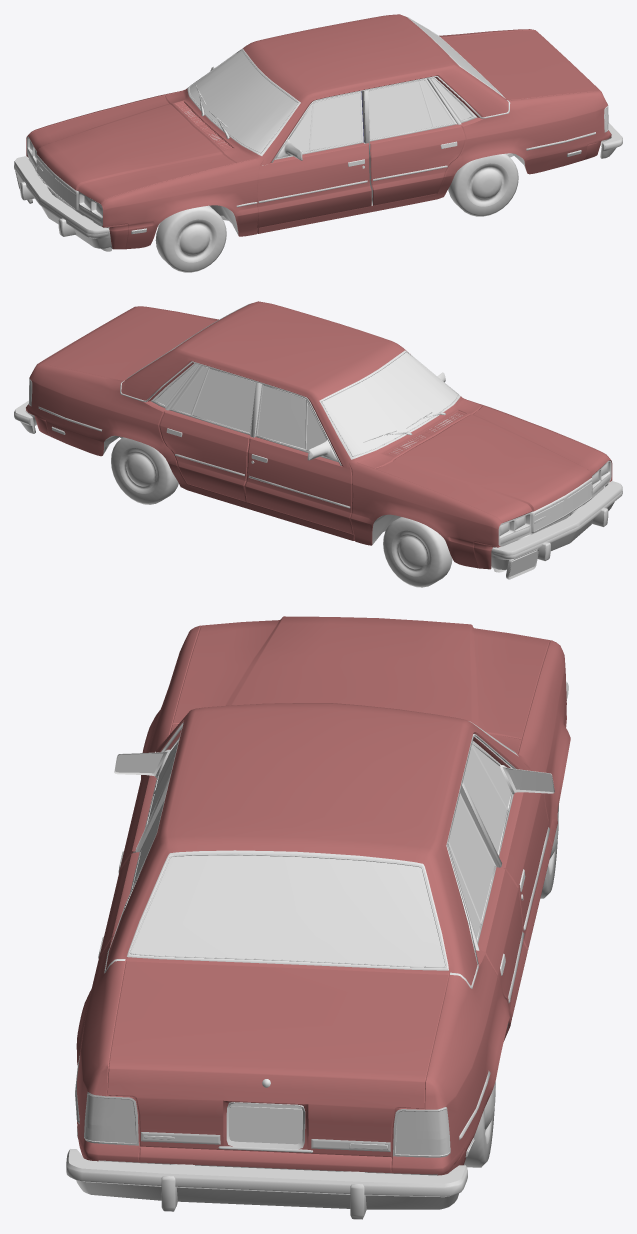
The model's file is Fairheaven_LT80Unity.fbx.
3 views of the same model, one above another, from view 1: azimuth 30°, elevation 25°; view 2: azimuth 150°, elevation 25°; view 3: azimuth 270°, elevation 25° (orthographic). The views are drawn at different scales.
Visible parts, largest first — view 1: body, Hood, Door_FL, trunk_door, Wiendshield, Door_RL, Wheel_FL, Door_Glass_RL, Wheel_RL, Door_Glass_FL, bumper_front, Bodytrim (+6 smaller); view 2: body, Hood, Wiendshield, Door_FR, trunk_door, Door_RR, Wheel_FR, bumper_front, Door_Glass_RR, Wheel_RR, Door_Glass_FR, Bodytrim (+6 smaller); view 3: body, trunk_door, Hood, Windows_rear, bumper_rear, Bodytrim, Door_FR, Door_RR, Door_Glass_RR, Trunk_door_inner, Door_Glass_FR, Numberplate_rear (+11 smaller).
Part boxes in pixels (bbox=[...]): body: bbox=[26, 14, 611, 249]; Hood: bbox=[28, 95, 236, 203]; Door_FL: bbox=[257, 143, 371, 227]; trunk_door: bbox=[442, 30, 600, 100]; Wiendshield: bbox=[189, 50, 298, 152]; Door_RL: bbox=[369, 124, 465, 205]; Wheel_FL: bbox=[155, 205, 226, 272]; Door_Glass_RL: bbox=[369, 80, 453, 139]; Wheel_RL: bbox=[448, 153, 518, 216]; Door_Glass_FL: bbox=[289, 93, 361, 151]; bumper_front: bbox=[14, 156, 111, 248]; Bodytrim: bbox=[187, 17, 595, 162]; body: bbox=[26, 301, 612, 569]; Hood: bbox=[375, 406, 608, 523]; Wiendshield: bbox=[322, 352, 457, 456]; Door_FR: bbox=[244, 436, 353, 534]; trunk_door: bbox=[38, 307, 215, 380]; Door_RR: bbox=[159, 410, 250, 501]; Wheel_FR: bbox=[383, 517, 452, 587]; bumper_front: bbox=[491, 481, 622, 579]; Door_Glass_RR: bbox=[173, 367, 255, 432]; Wheel_RR: bbox=[111, 437, 178, 504]; Door_Glass_FR: bbox=[257, 385, 326, 449]; Bodytrim: bbox=[38, 303, 460, 465]; body: bbox=[76, 625, 570, 1175]; trunk_door: bbox=[107, 961, 448, 1157]; Hood: bbox=[172, 616, 550, 739]; Windows_rear: bbox=[131, 855, 445, 966]; bumper_rear: bbox=[66, 1149, 467, 1219]; Bodytrim: bbox=[75, 721, 518, 1157]; Door_FR: bbox=[499, 768, 552, 950]; Door_RR: bbox=[478, 867, 527, 1017]; Door_Glass_RR: bbox=[448, 795, 494, 939]; Trunk_door_inner: bbox=[141, 1079, 390, 1152]; Door_Glass_FR: bbox=[463, 744, 510, 852]; Numberplate_rear: bbox=[229, 1106, 302, 1143].
Size of the model in its own units: 889 by 238 by 368.
